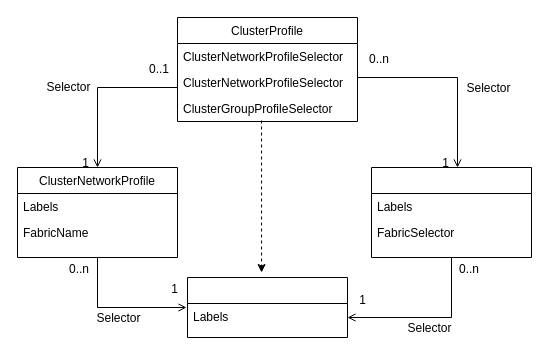
Some shapes in this 549 by 355 pixel diagram are drawn without their labels. Each missing label, with the box of its shape:
ClusterGroupProfile: (370, 166, 532, 258)
FabricInfra: (186, 276, 348, 338)
